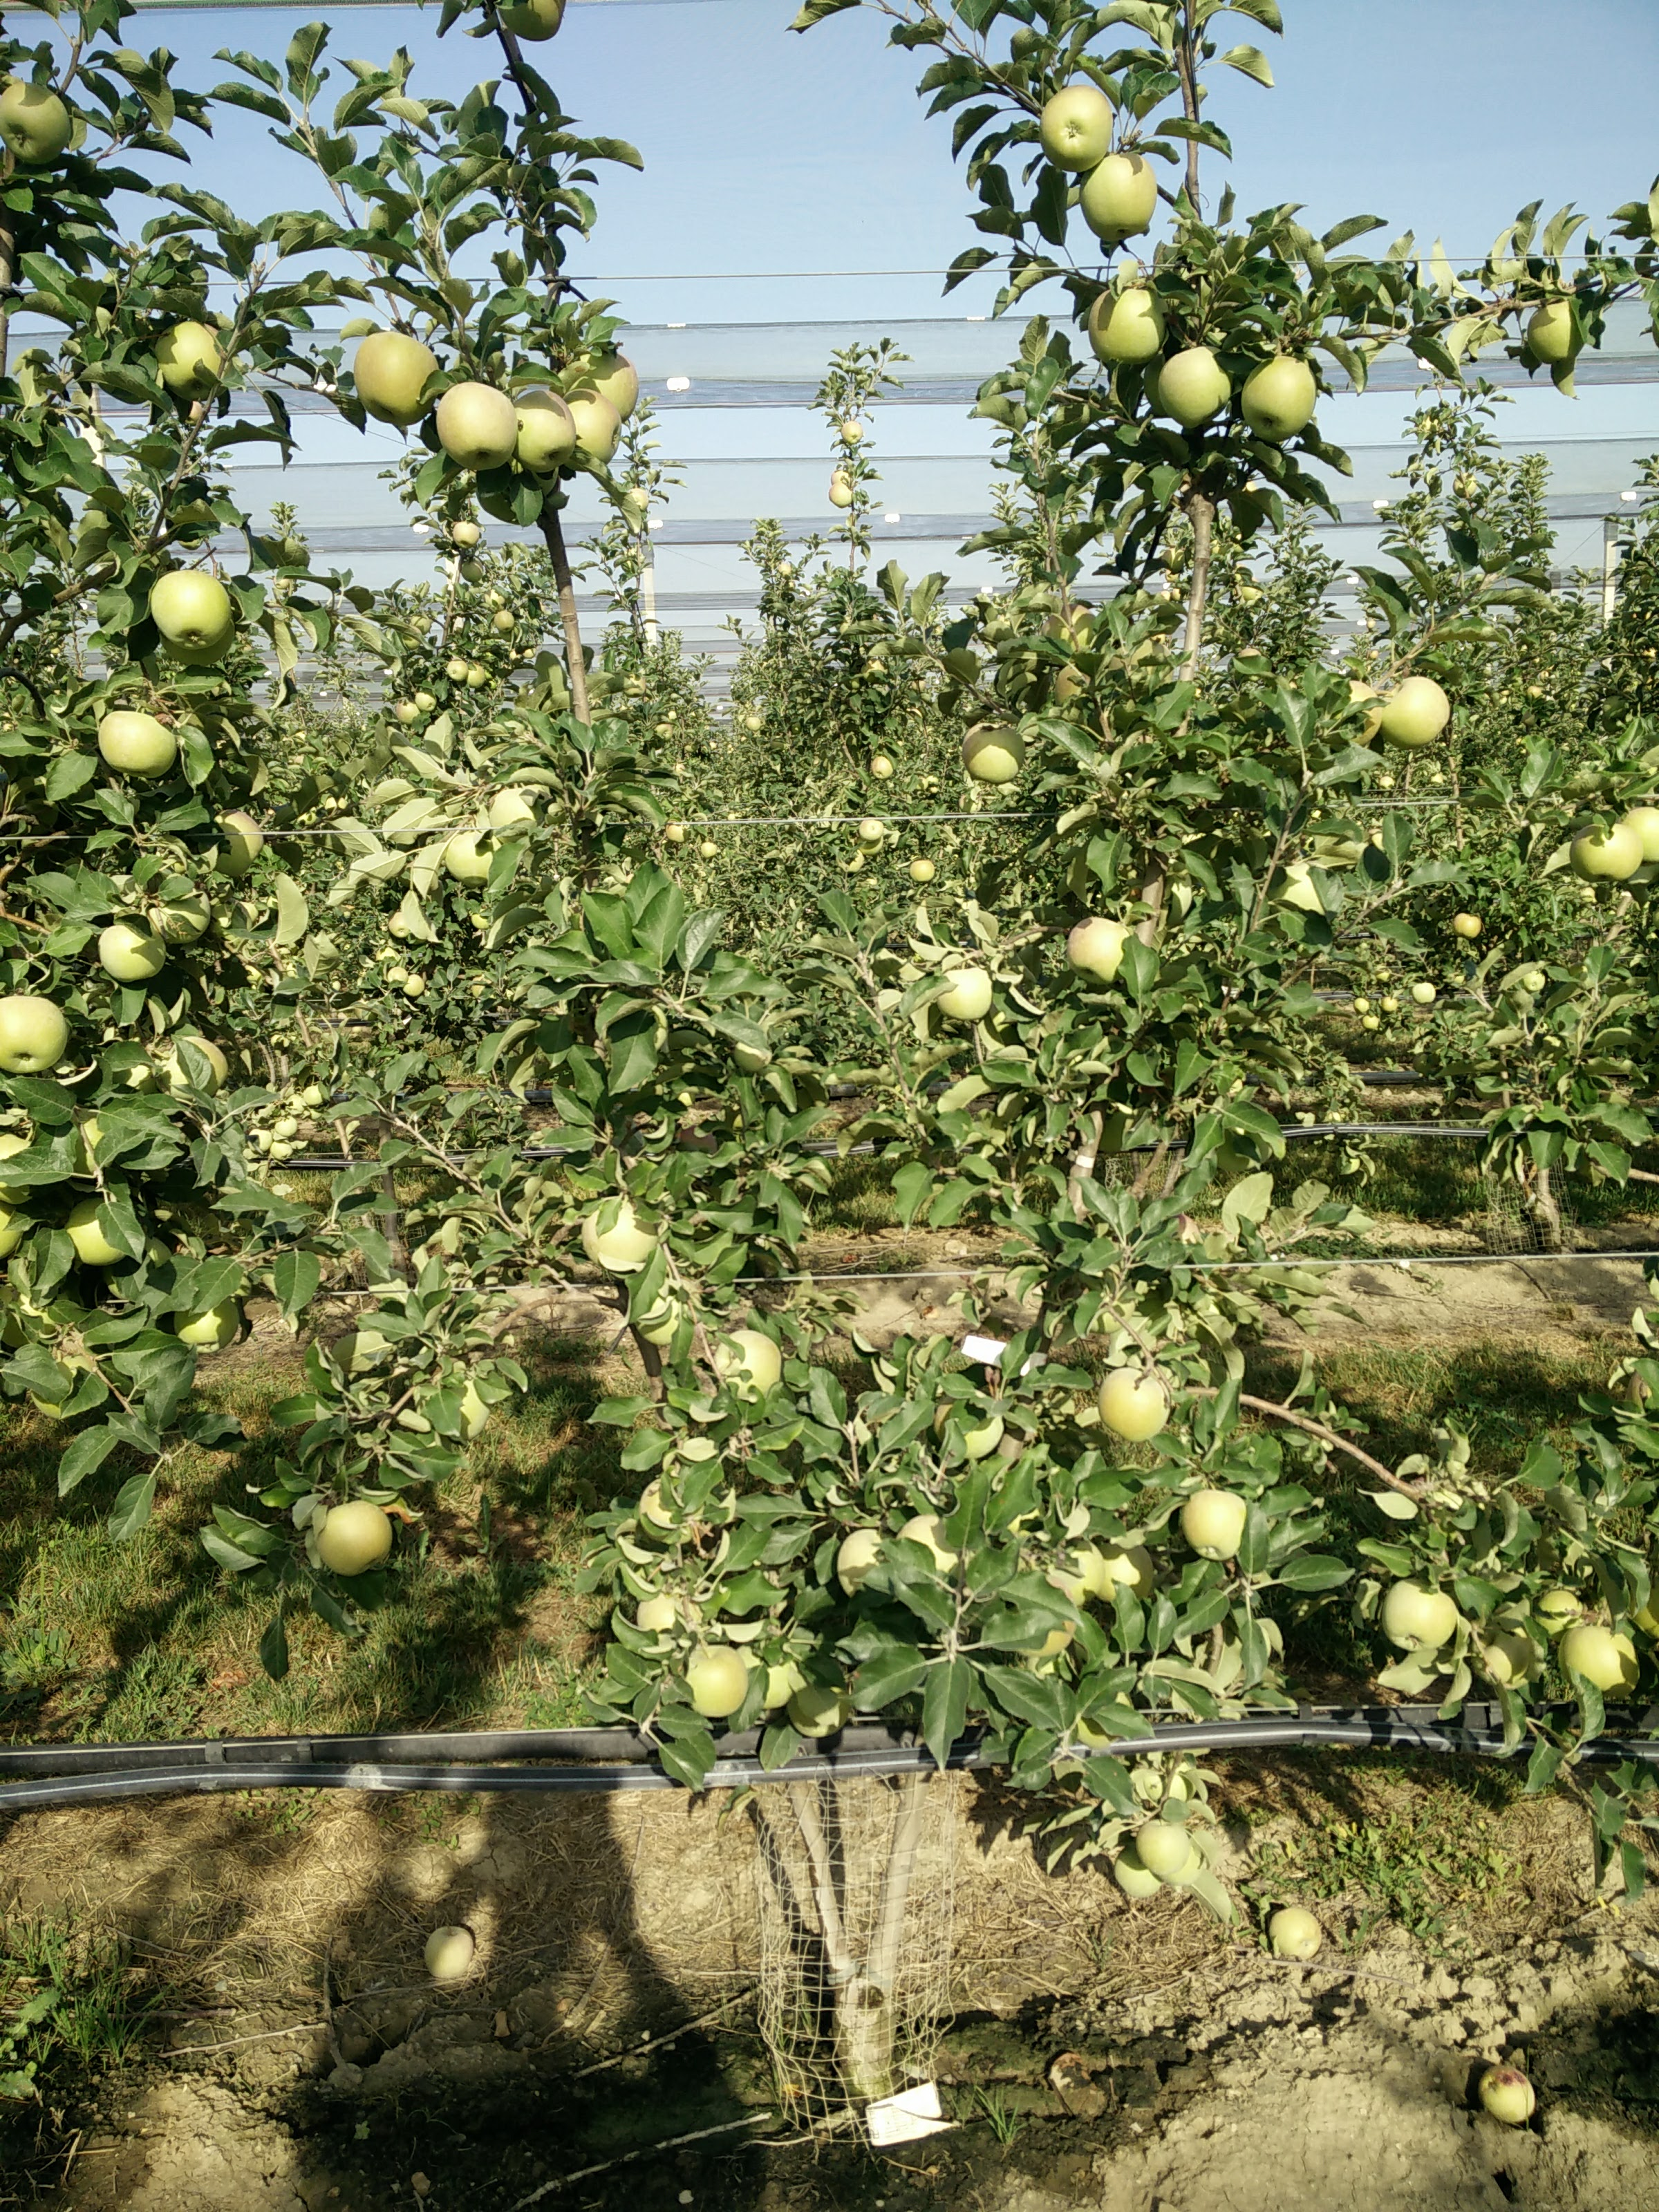apple: (1071, 147, 1160, 245), (433, 379, 521, 474), (350, 330, 435, 422), (1038, 83, 1118, 177), (1155, 338, 1237, 426), (146, 565, 232, 646), (1241, 356, 1318, 443), (150, 325, 234, 404), (1556, 1616, 1640, 1695), (1, 81, 78, 162), (1087, 282, 1165, 364), (307, 1501, 393, 1576), (581, 1201, 665, 1277), (710, 1329, 787, 1407), (1098, 1365, 1172, 1444), (512, 386, 582, 467), (1380, 1575, 1452, 1653), (97, 703, 177, 774), (674, 1644, 748, 1720), (1178, 1484, 1249, 1560), (1374, 675, 1452, 744), (1, 996, 71, 1071), (1065, 915, 1142, 983), (561, 386, 630, 462), (1520, 300, 1591, 368), (1568, 821, 1643, 883), (59, 1199, 133, 1263), (169, 1293, 242, 1353), (198, 810, 262, 874), (96, 924, 169, 981), (959, 722, 1025, 781), (897, 1517, 962, 1574), (937, 962, 996, 1021), (444, 831, 507, 885), (1136, 1817, 1187, 1875), (1107, 1848, 1160, 1900)
